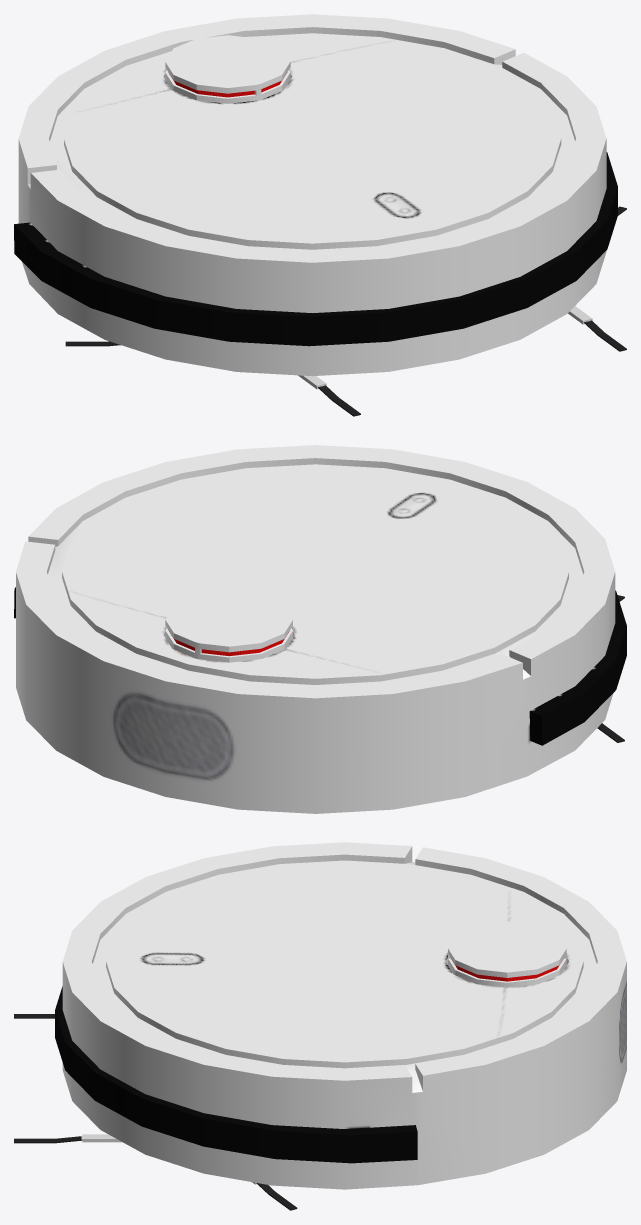
File: robot vacuum cleaner.fbx
3 views of the same model, one above another, from view 1: azimuth 30°, elevation 25°; view 2: azimuth 150°, elevation 25°; view 3: azimuth 270°, elevation 25° (orthographic). The views are drawn at different scales.
Visible parts, largest first — view 1: Robot_pylesos, Плоскость.001, Плоскость.005; view 2: Robot_pylesos; view 3: Robot_pylesos, Плоскость.005.
Part boxes in pixels (x1=…): Robot_pylesos: x1=14, y1=14, x2=617, y2=376; Плоскость.001: x1=65, y1=341, x2=360, y2=416; Плоскость.005: x1=568, y1=206, x2=626, y2=351; Robot_pylesos: x1=14, y1=445, x2=626, y2=813; Robot_pylesos: x1=55, y1=842, x2=626, y2=1189; Плоскость.005: x1=14, y1=1134, x2=297, y2=1210.
Bounding box in the file's own units: 35.28 × 8.1 × 34.76.
